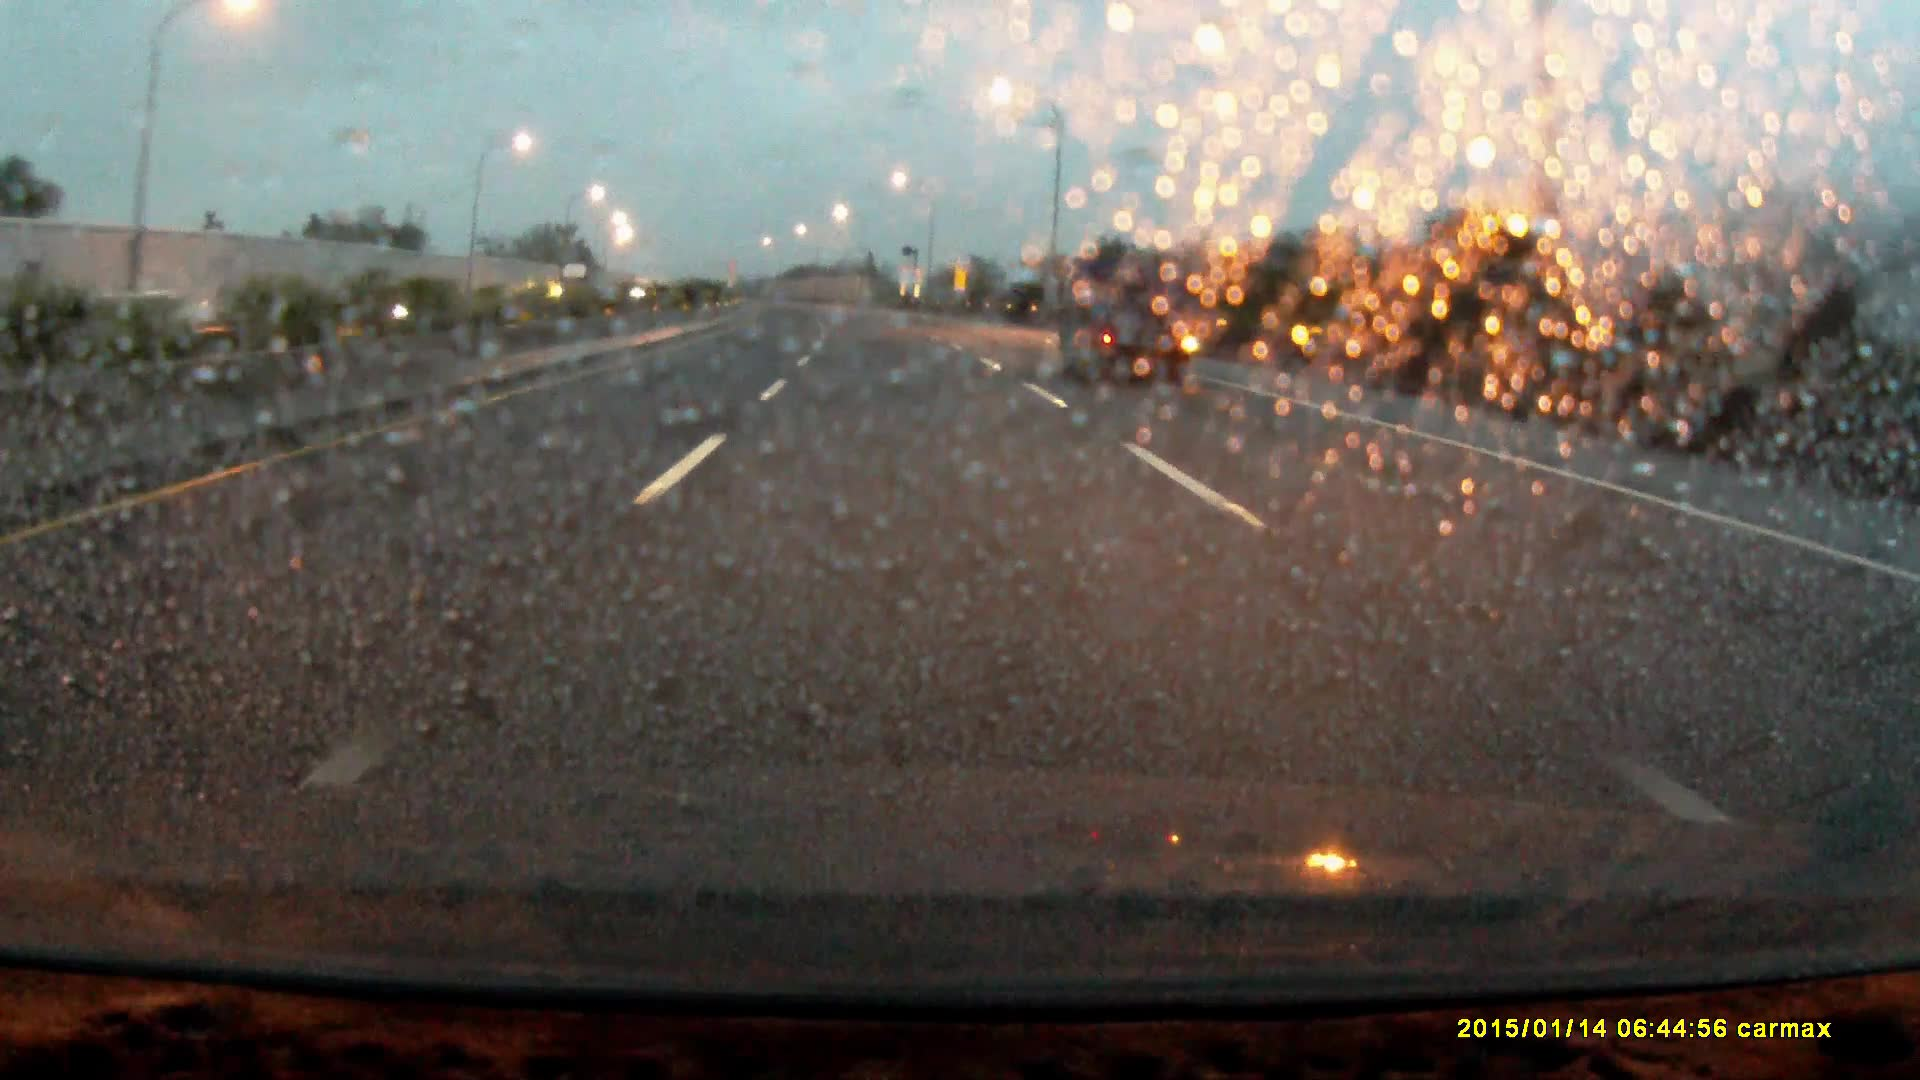vehicle: (1056, 255, 1196, 394), (560, 262, 597, 313)
